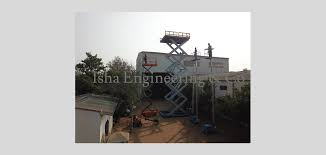Scissor Lift: (159, 30, 193, 120)
